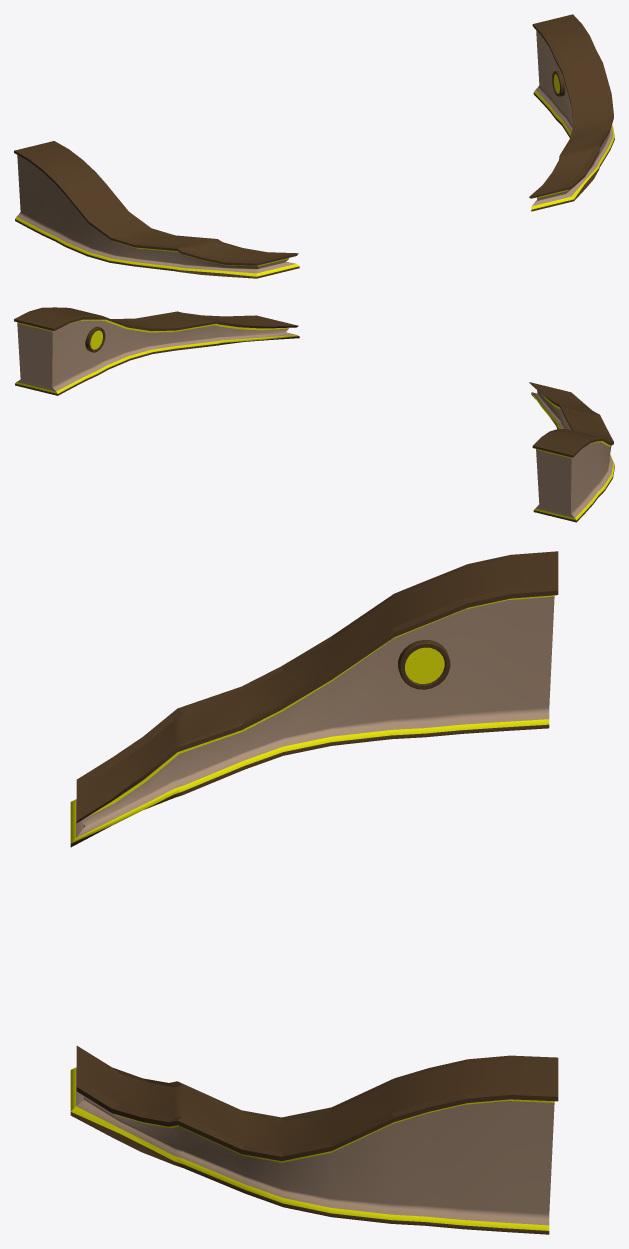
The model's file is Railings001.fbx.
The picture shows the model from 3 angles, top to bottom: view 1: azimuth 30°, elevation 25°; view 2: azimuth 150°, elevation 25°; view 3: azimuth 270°, elevation 25°; orthographic projection. The views are drawn at different scales.
Visible parts, largest first — view 1: pCube1; view 2: pCube1, pCylinder1; view 3: pCube1, pCylinder1.
Boxes of the visible parts, bbox=[...] form: pCube1: bbox=[14, 14, 614, 278]; pCube1: bbox=[14, 307, 614, 522]; pCylinder1: bbox=[85, 326, 105, 352]; pCube1: bbox=[70, 551, 558, 1234]; pCylinder1: bbox=[398, 640, 450, 689].
Bounding box in the file's own units: 39.93 × 4.64 × 15.01.
